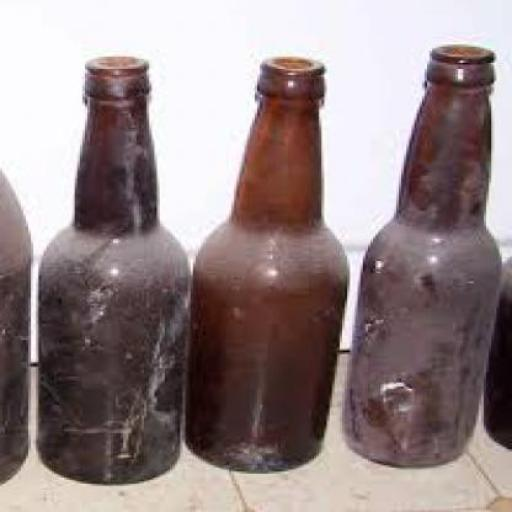glass: (182, 54, 348, 470), (337, 44, 499, 468), (36, 55, 188, 483), (0, 170, 26, 486), (478, 253, 510, 450)
